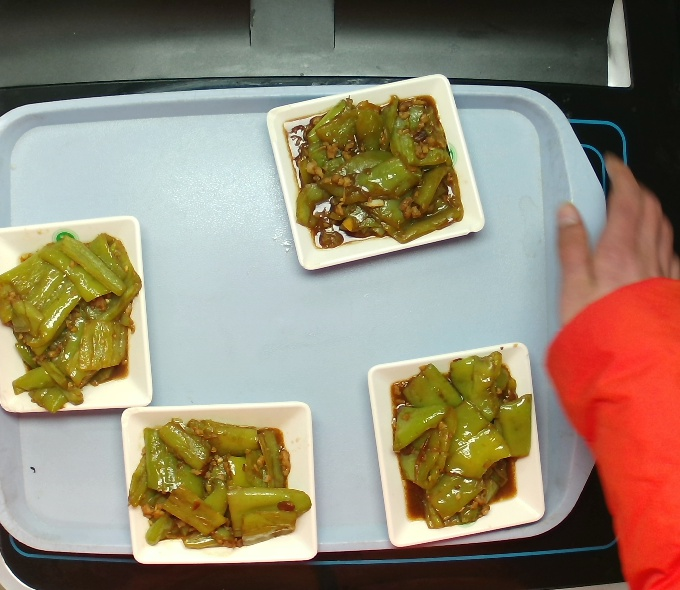wcq-RouMoQingJiao: (286, 85, 462, 260), (383, 335, 531, 541), (125, 407, 304, 565), (0, 232, 139, 410)
